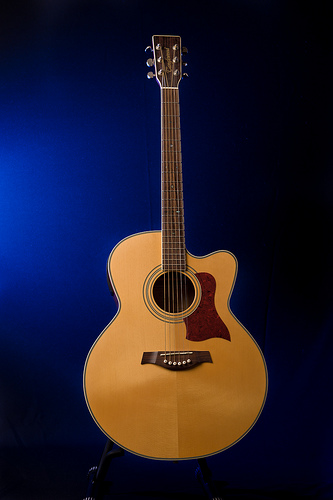guitar: (81, 33, 271, 464)
